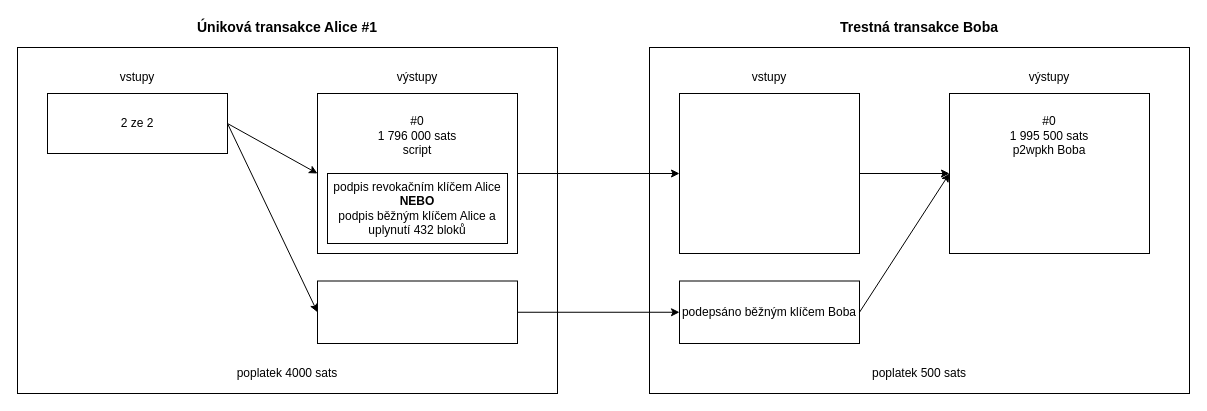
This 1207x411 diagram has some shape labels left out. Here are the shapes that lost their labels. From the top down, the centre of each, then its label:
[769,173]: podepsáno revokačním klíčem Alice
[417,312]: #1 200 000 sats p2wpkh Boba
